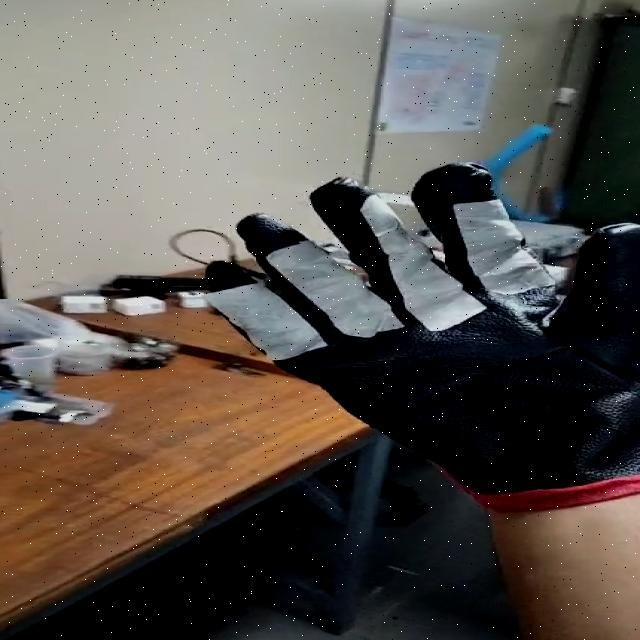Gloves: (208, 167, 640, 496)
